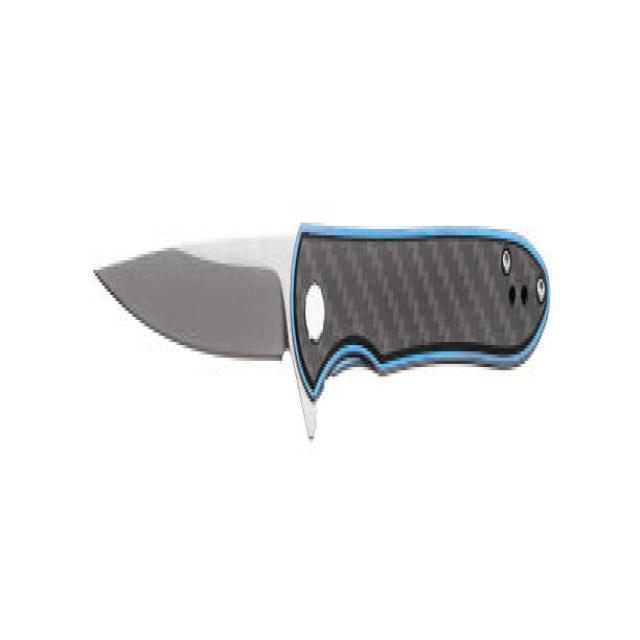knife: (93, 214, 556, 478)
